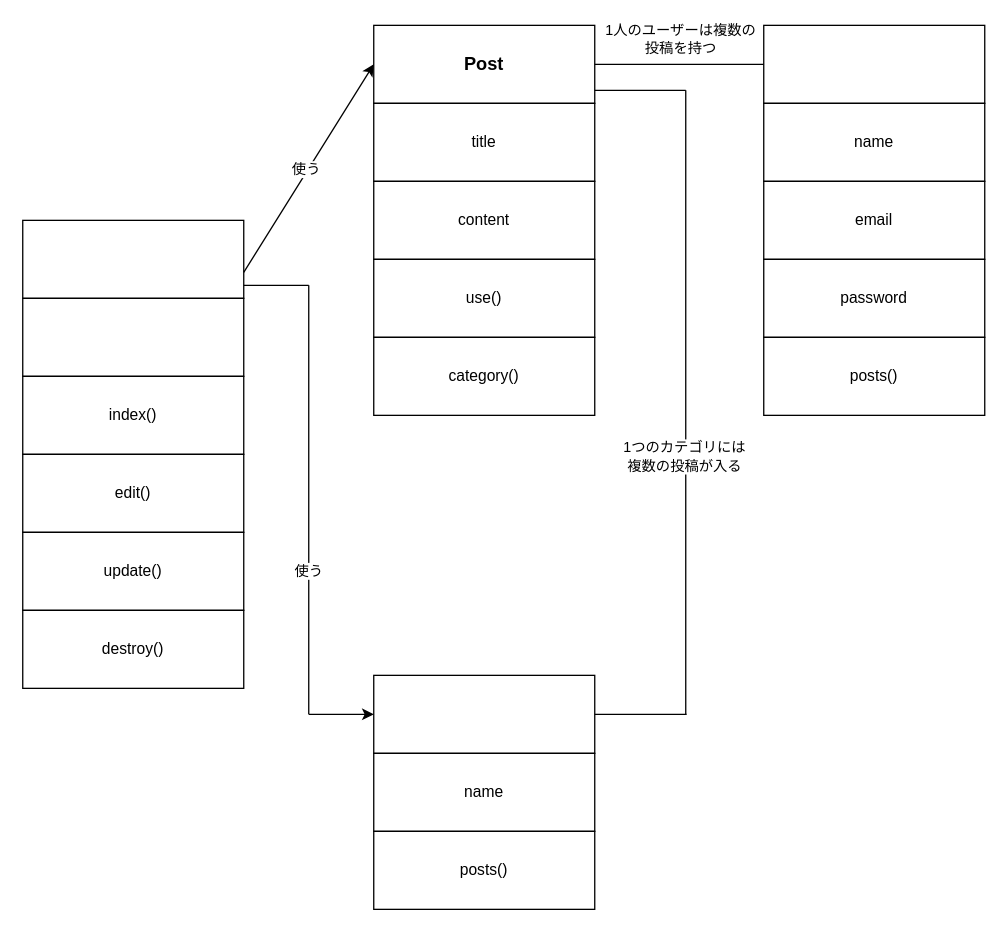
Image size: 1007x932. Some labels were removed from this diagram. The centre of each missing label's shape, as x and y in pixels:
Category: point 483,713
PostController: point 132,258
User: point 873,63
